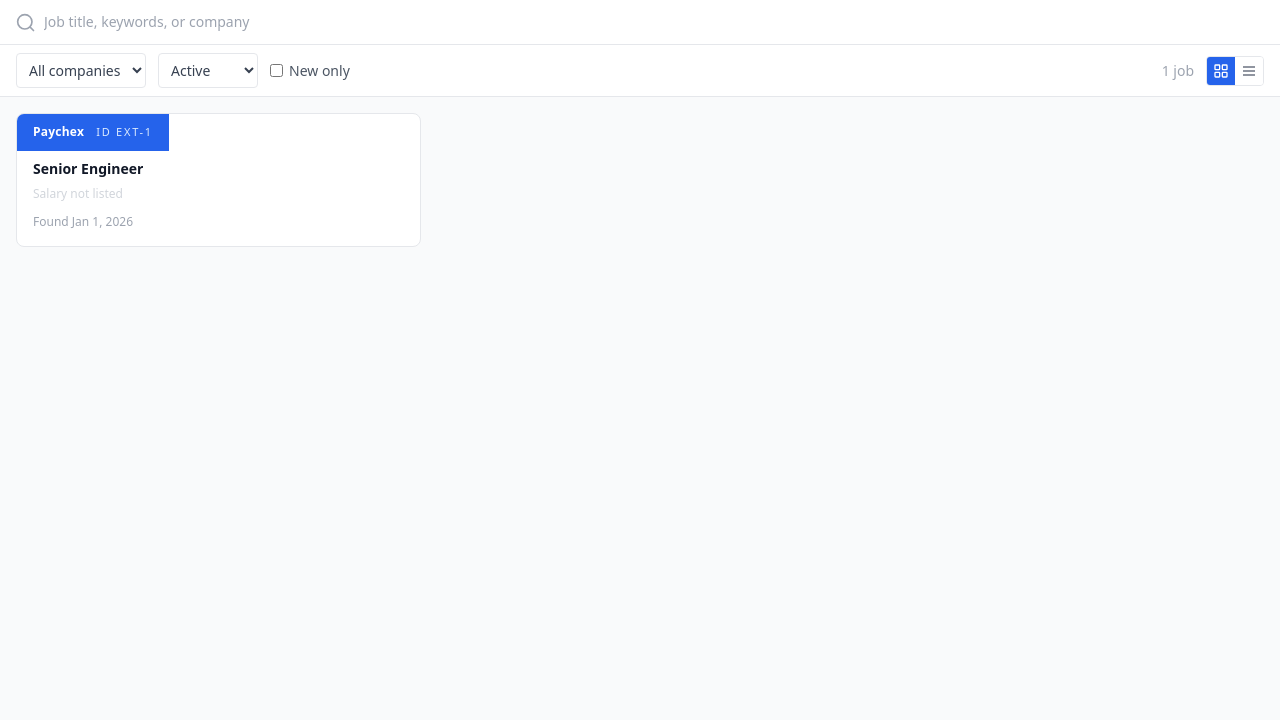
job modal › closes modal when X button is clicked
The width and height of the screenshot is (1280, 720).
Click the text "Senior Engineer" at (88, 168), box left=33, top=158, right=143, bottom=178
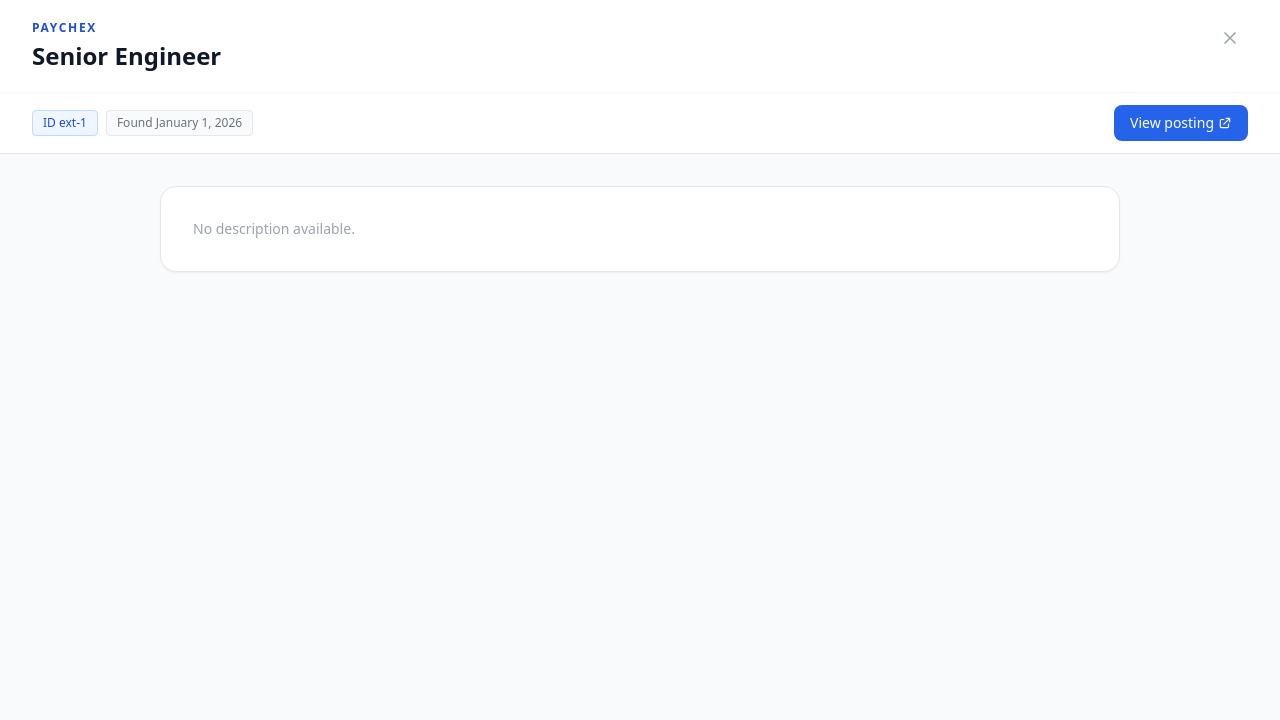
Click the button named "Close" at (1230, 38), box left=1212, top=20, right=1248, bottom=56
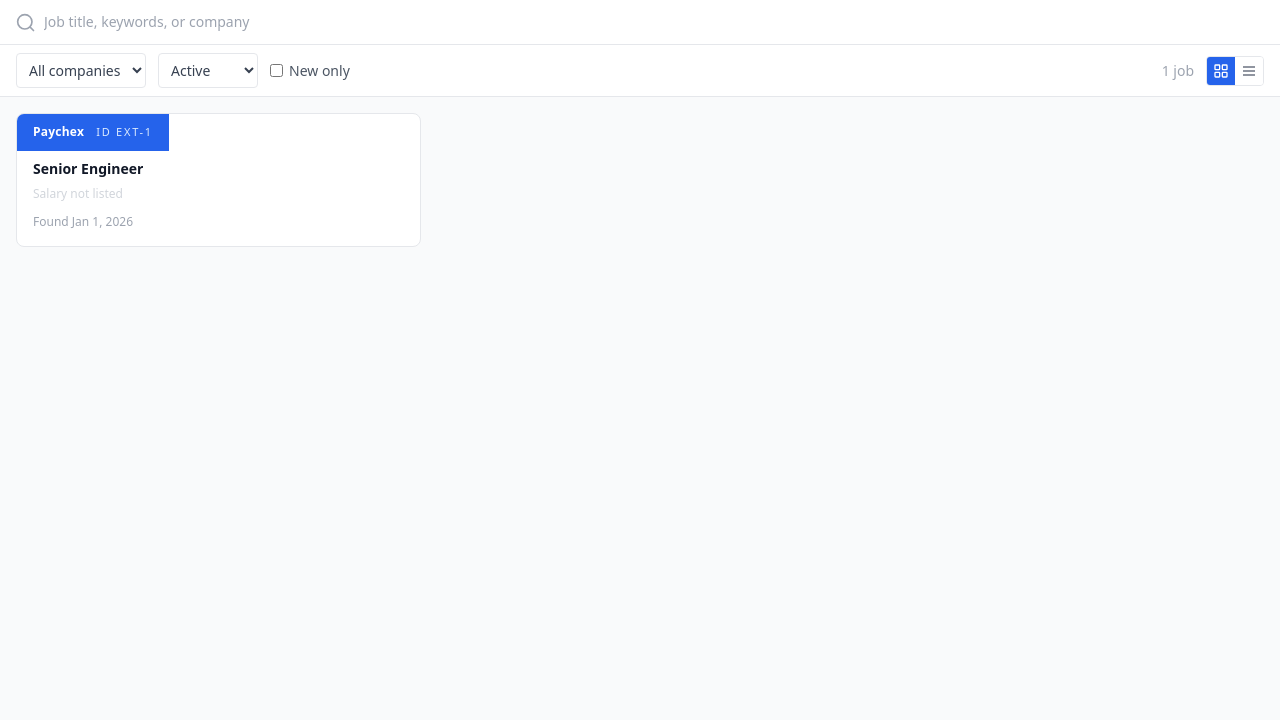
Expected: the dialog is gone
